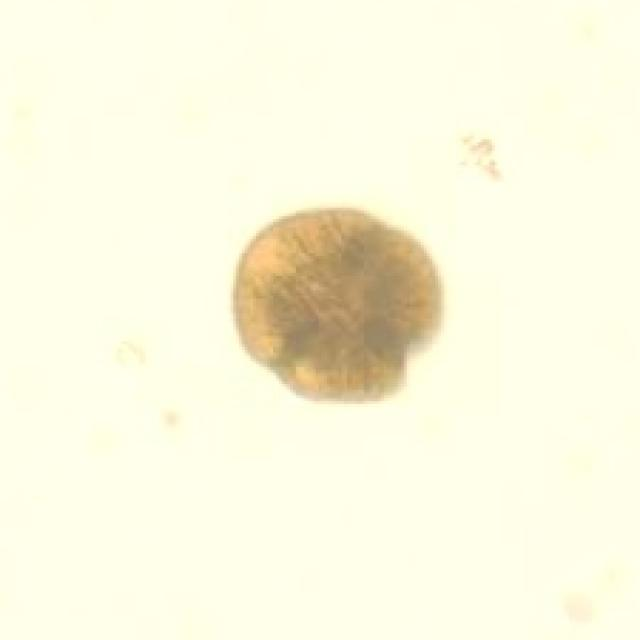Karenia: (226, 200, 441, 407)
